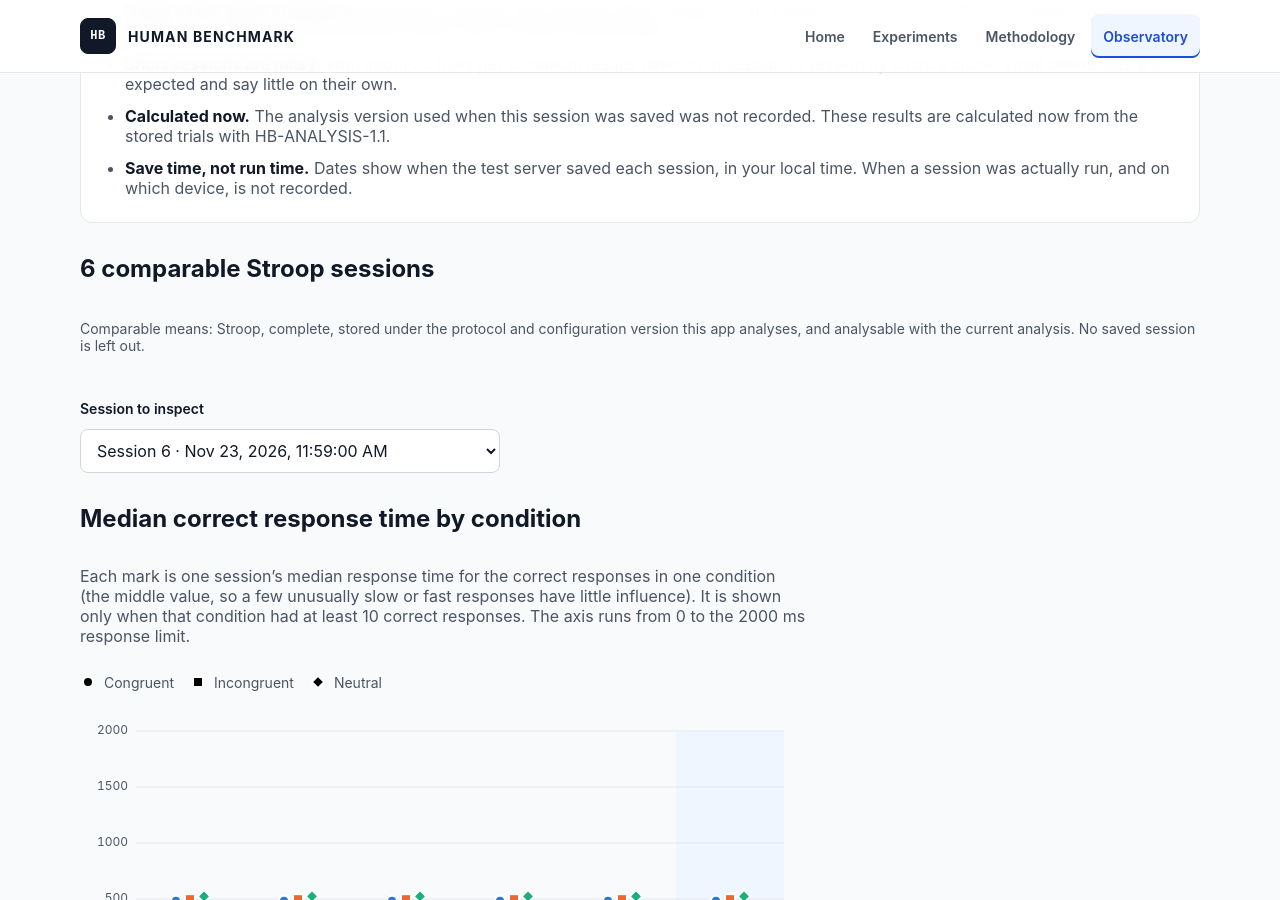
Scenario: Trends: thresholds › with 6 sessions the latest is placed against its 5 earlier sessions
(page scrolled)
# Inspecting session 5 instead: only 4 earlier sessions.
Step 1. Select "Session 5 · Nov 23, 2026, 11:58:00 AM" in the dropdown labelled "Session to inspect" → (290, 451), box [80,429,500,473]
(page scrolled)
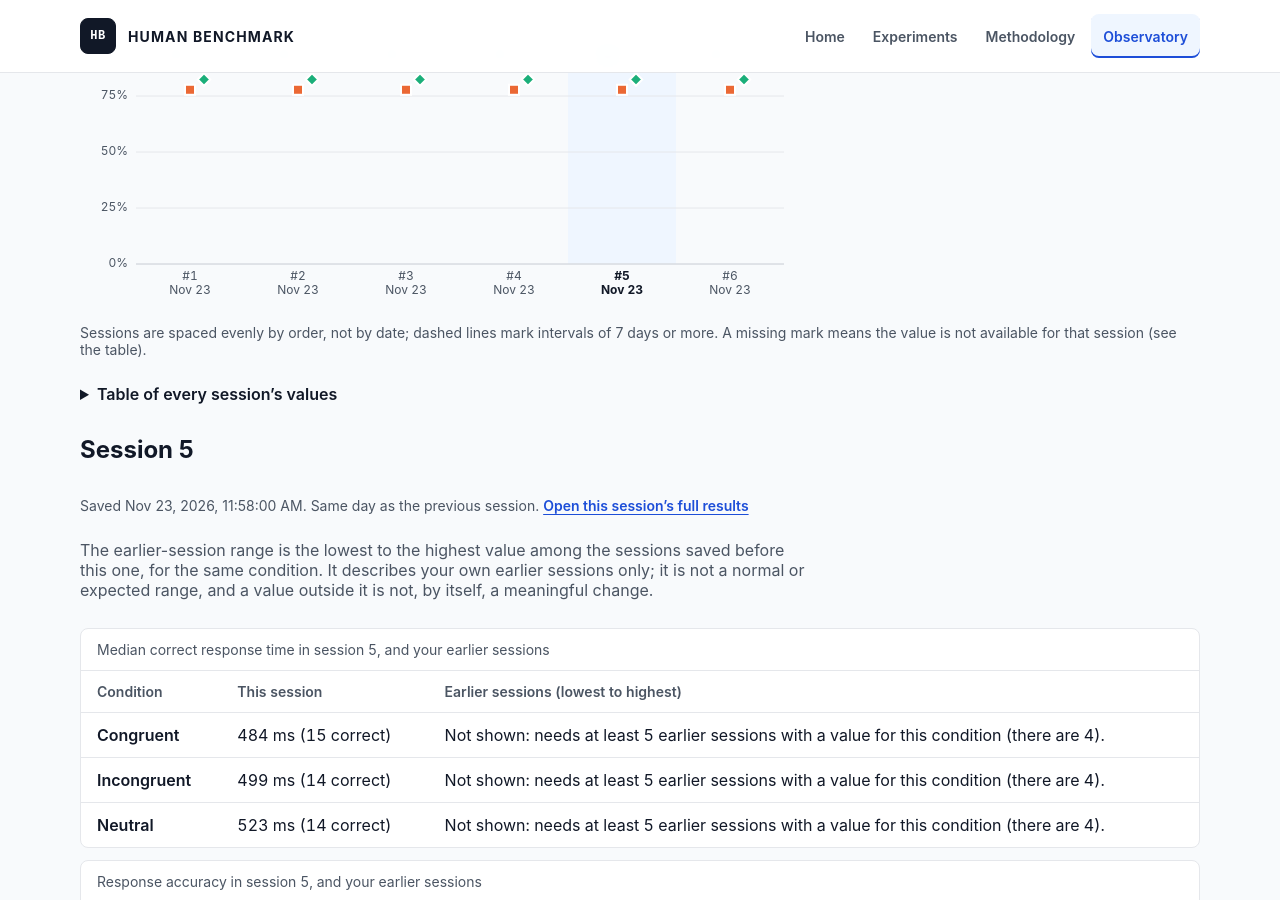
expect the heading "Session 5" is shown: met, box [80,435,194,464]
